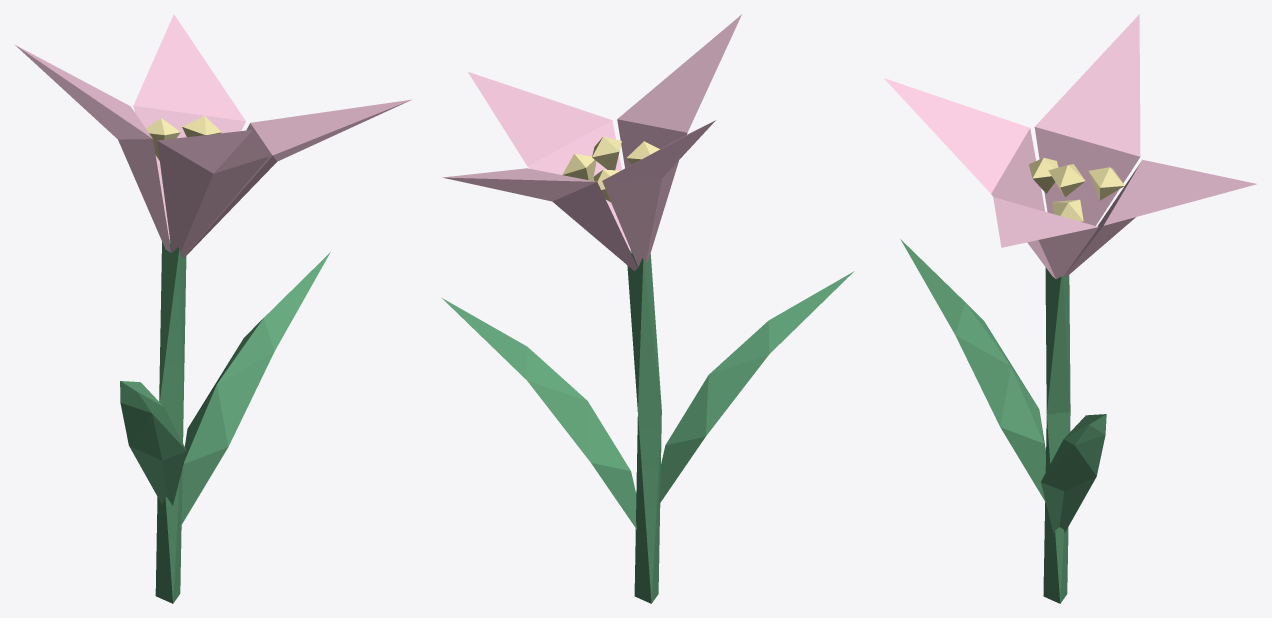
Rendered from Prop_Flower_Lily_Pink.glb.
3 views of the same model, side by side, from view 1: azimuth 30°, elevation 25°; view 2: azimuth 150°, elevation 25°; view 3: azimuth 270°, elevation 25° (orthographic). The views are drawn at different scales.
Parts seen in each view (by area): view 1: object11, object2, object3, object1, object6, object4, object8, object10; view 2: object1, object8, object4, object2, object11, object6, object3, object5, object9; view 3: object6, object11, object4, object1, object3, object2, object8, object10, object5, object7, object9.
Boxes of the visible parts, <box> form: object11: <box>157,130,269,257</box>; object2: <box>181,252,330,525</box>; object3: <box>133,14,245,239</box>; object1: <box>155,239,186,603</box>; object6: <box>14,44,171,252</box>; object4: <box>120,381,186,505</box>; object8: <box>183,99,411,258</box>; object10: <box>146,118,180,160</box>; object1: <box>627,250,661,603</box>; object8: <box>468,72,630,250</box>; object4: <box>658,271,854,504</box>; object2: <box>441,297,636,529</box>; object11: <box>617,14,741,168</box>; object6: <box>602,120,715,267</box>; object3: <box>442,168,637,270</box>; object5: <box>592,136,621,170</box>; object9: <box>562,153,596,180</box>; object6: <box>1034,14,1140,225</box>; object11: <box>884,78,1045,211</box>; object4: <box>900,239,1045,501</box>; object1: <box>1043,267,1070,603</box>; object3: <box>1064,159,1256,277</box>; object2: <box>1041,414,1106,533</box>; object8: <box>993,197,1098,279</box>; object10: <box>1088,167,1124,200</box>; object5: <box>1048,164,1085,197</box>; object7: <box>1029,157,1058,193</box>; object9: <box>1052,199,1083,221</box>.
Size of the model in its own units: 0.3452 by 0.5254 by 0.3357.
